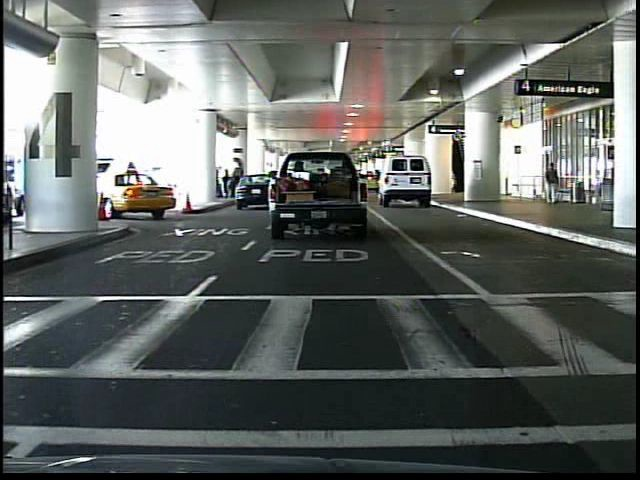person: (540, 157, 561, 209)
